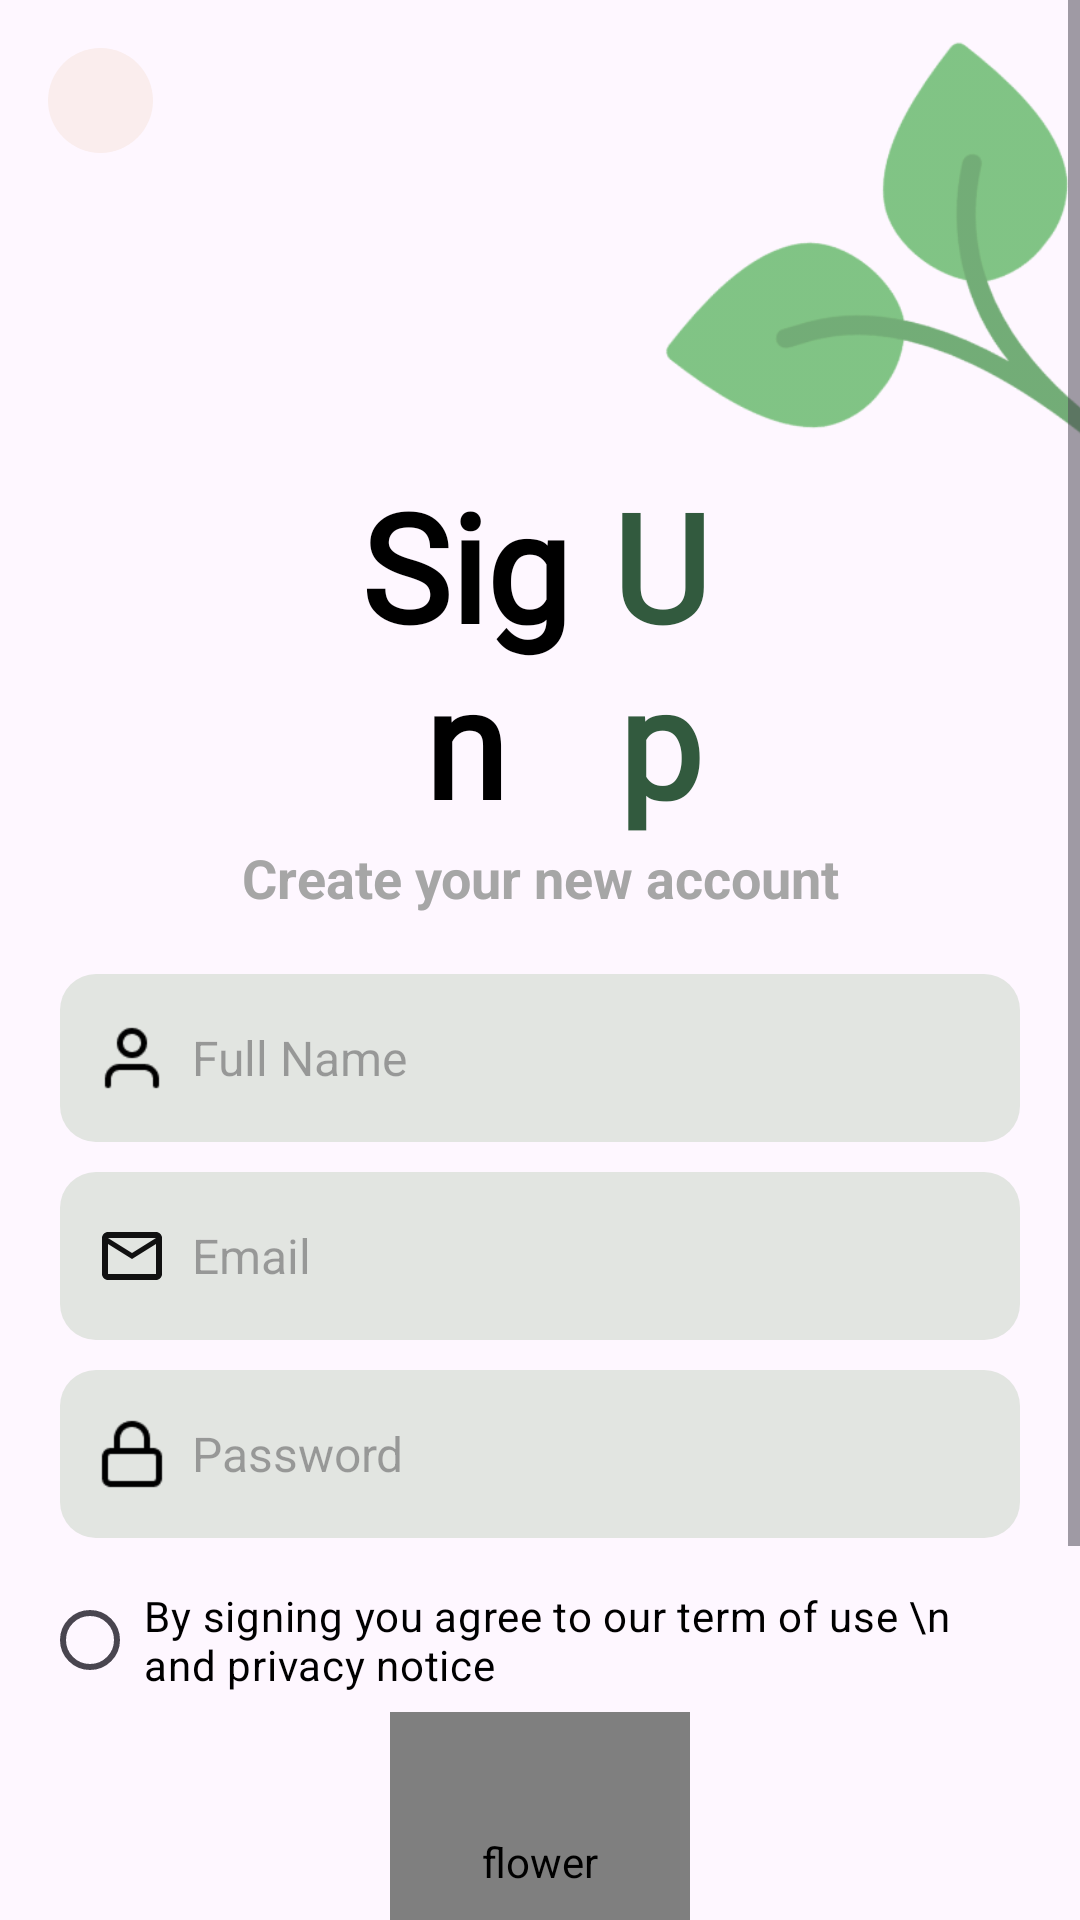

Icons on this 1080px x 1920px Android screen, each with the point to tap as (x,y):
Lock Icon: (132,1454)
user: (132,1058)
